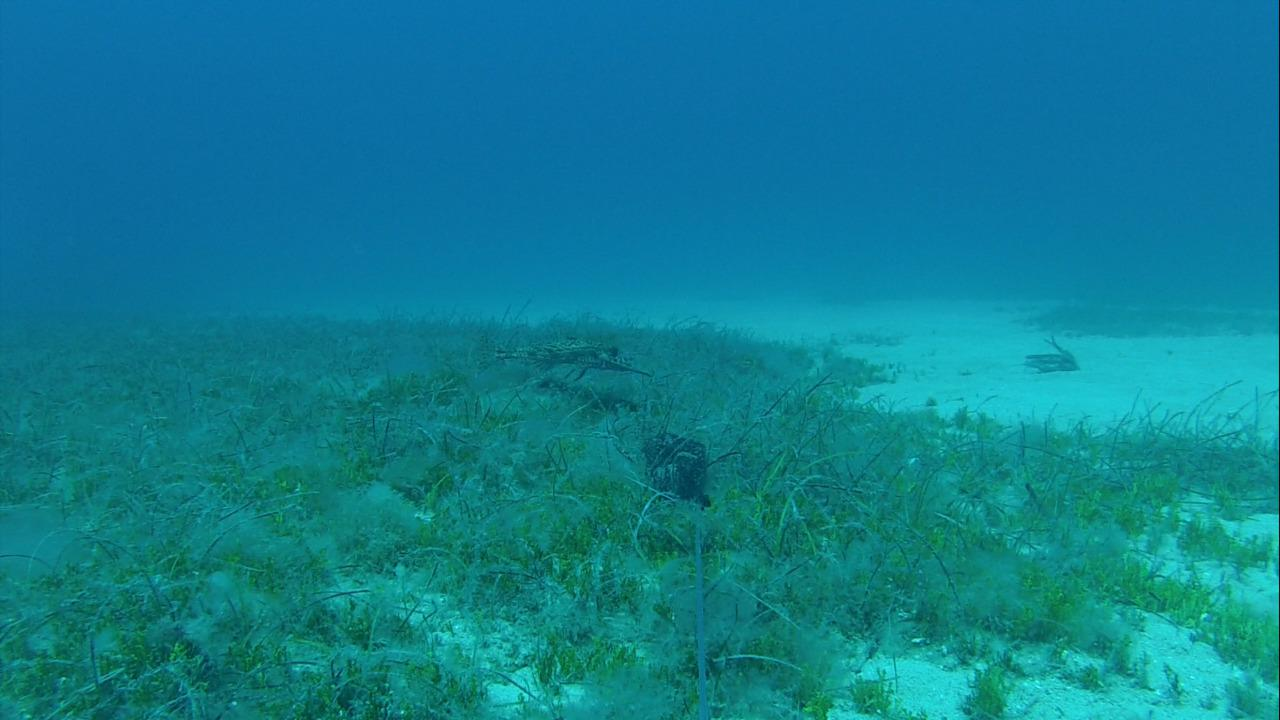dactylopterus: (458, 331, 650, 385)
